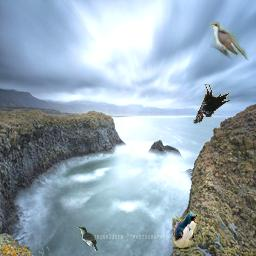Crow: (193, 84, 231, 124)
Cuckoo: (210, 22, 250, 61), (77, 226, 98, 252)
Swallow: (172, 211, 199, 251)
